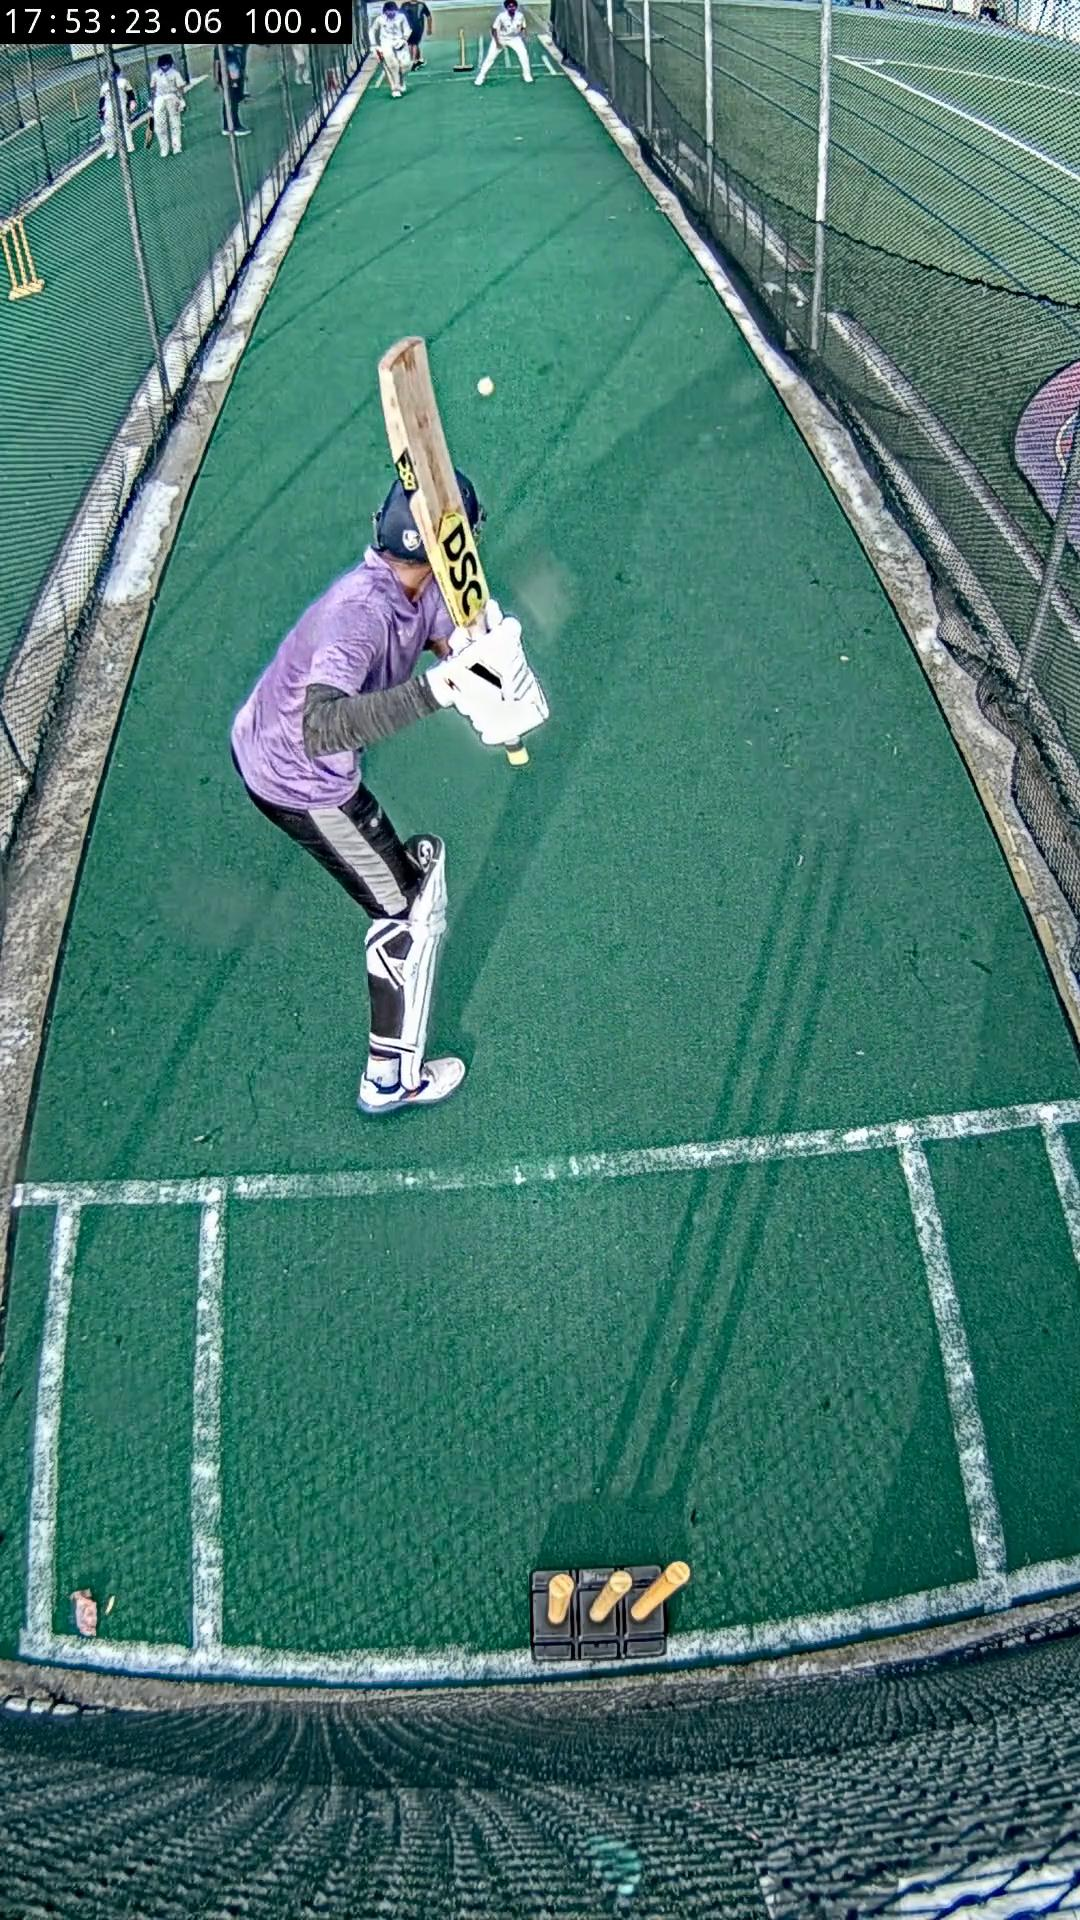ball: (476, 375, 495, 397)
bat: (378, 338, 492, 632)
gloves: (427, 615, 547, 746)
helmet: (375, 480, 427, 563), (454, 472, 484, 530)
pads: (394, 836, 446, 1058)
stumps: (529, 1560, 690, 1663)
